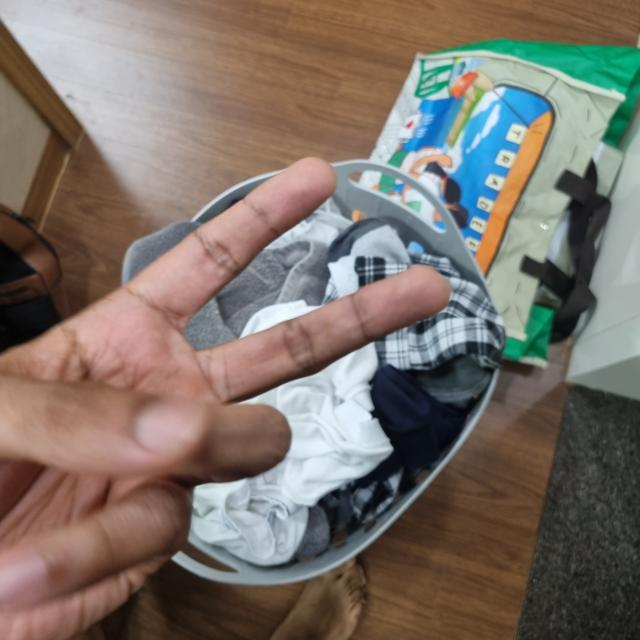Scissors: (0, 158, 447, 640)
